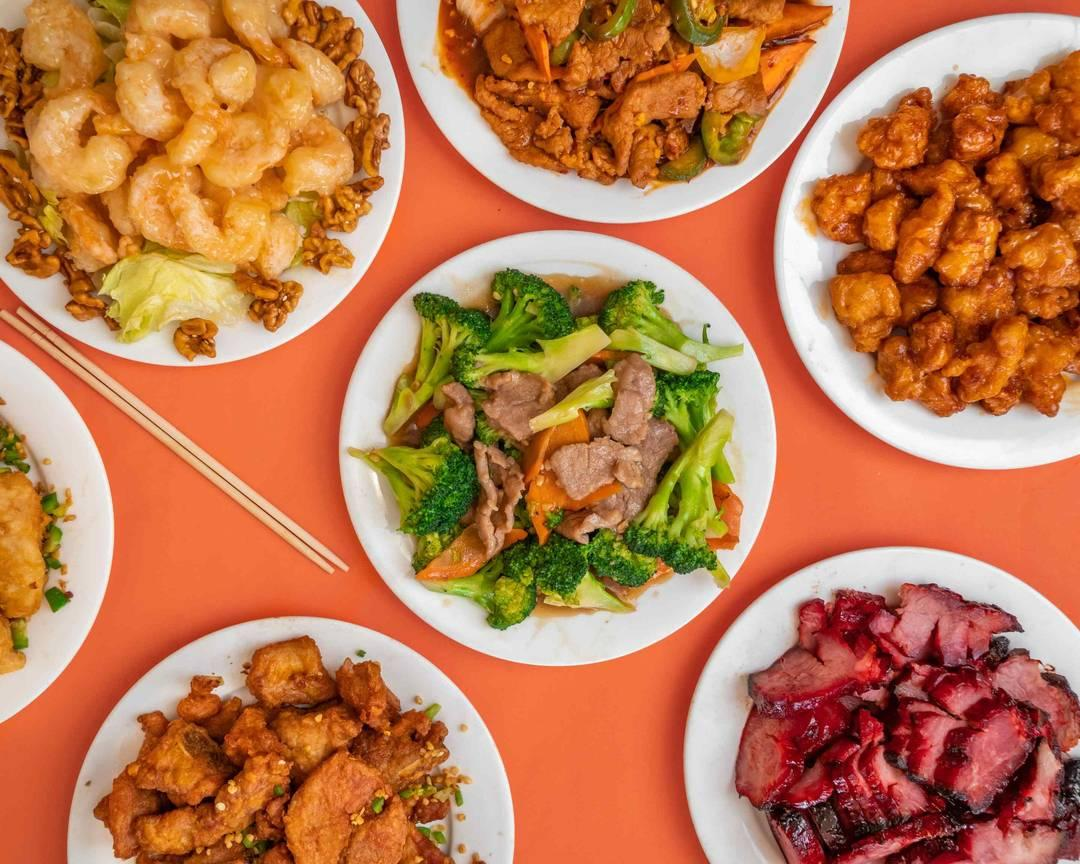Braised Crucian Carp: (343, 229, 769, 660), (7, 4, 408, 368), (775, 10, 1076, 462), (685, 551, 1078, 863), (67, 620, 502, 860), (391, 2, 829, 228)
